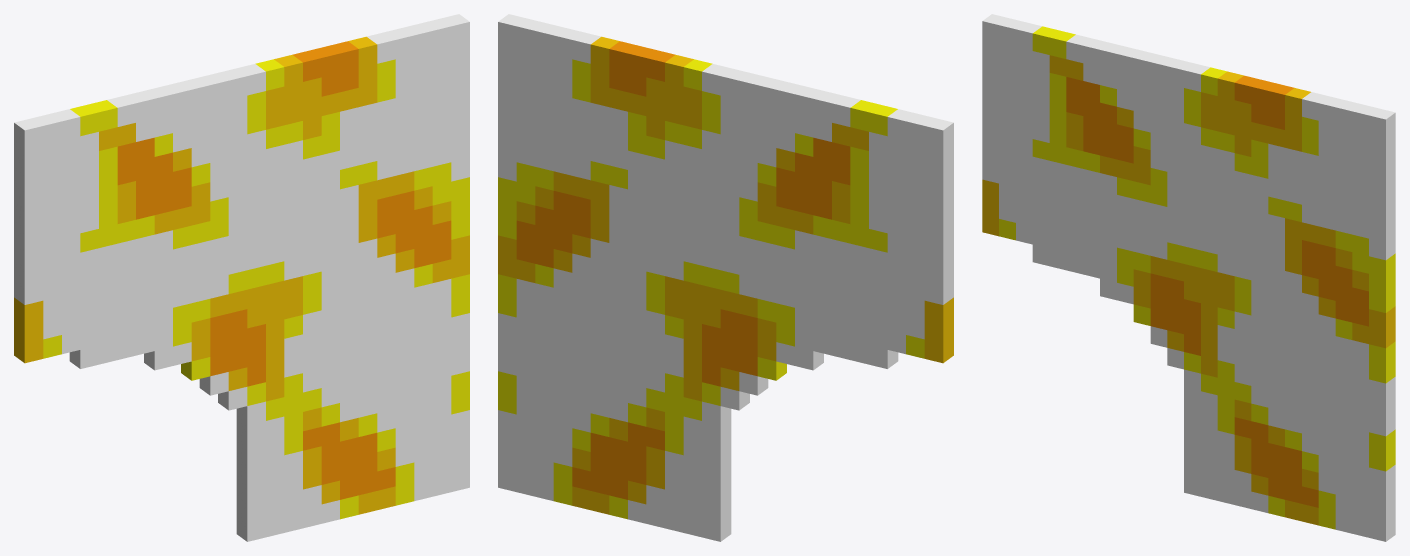
File: lava_25_6_f2.obj
3 views of the same model, side by side, from view 1: azimuth 30°, elevation 25°; view 2: azimuth 150°, elevation 25°; view 3: azimuth 330°, elevation 25° (orthographic). The views are drawn at different scales.
Size of the model in its own units: 2.4 by 2.4 by 0.1.
1 material, 1 textured.
